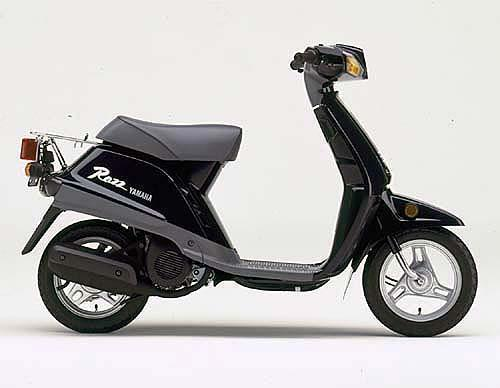motorcycle: (19, 32, 489, 343)
